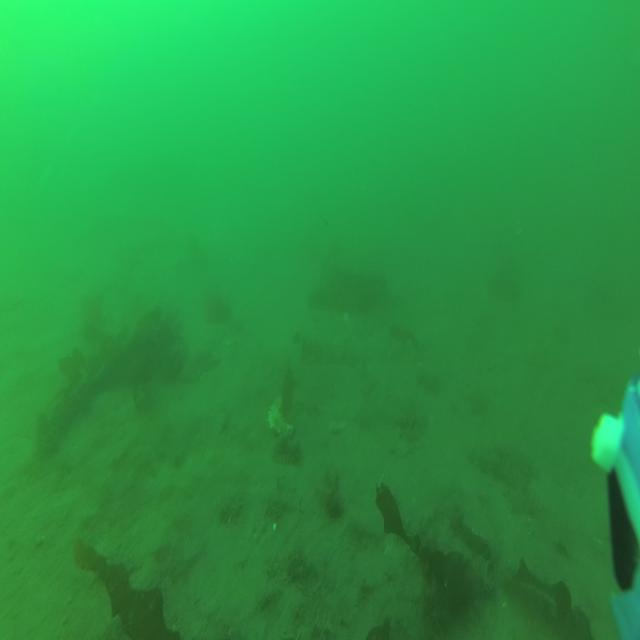holothurian: (267, 394, 296, 440)
